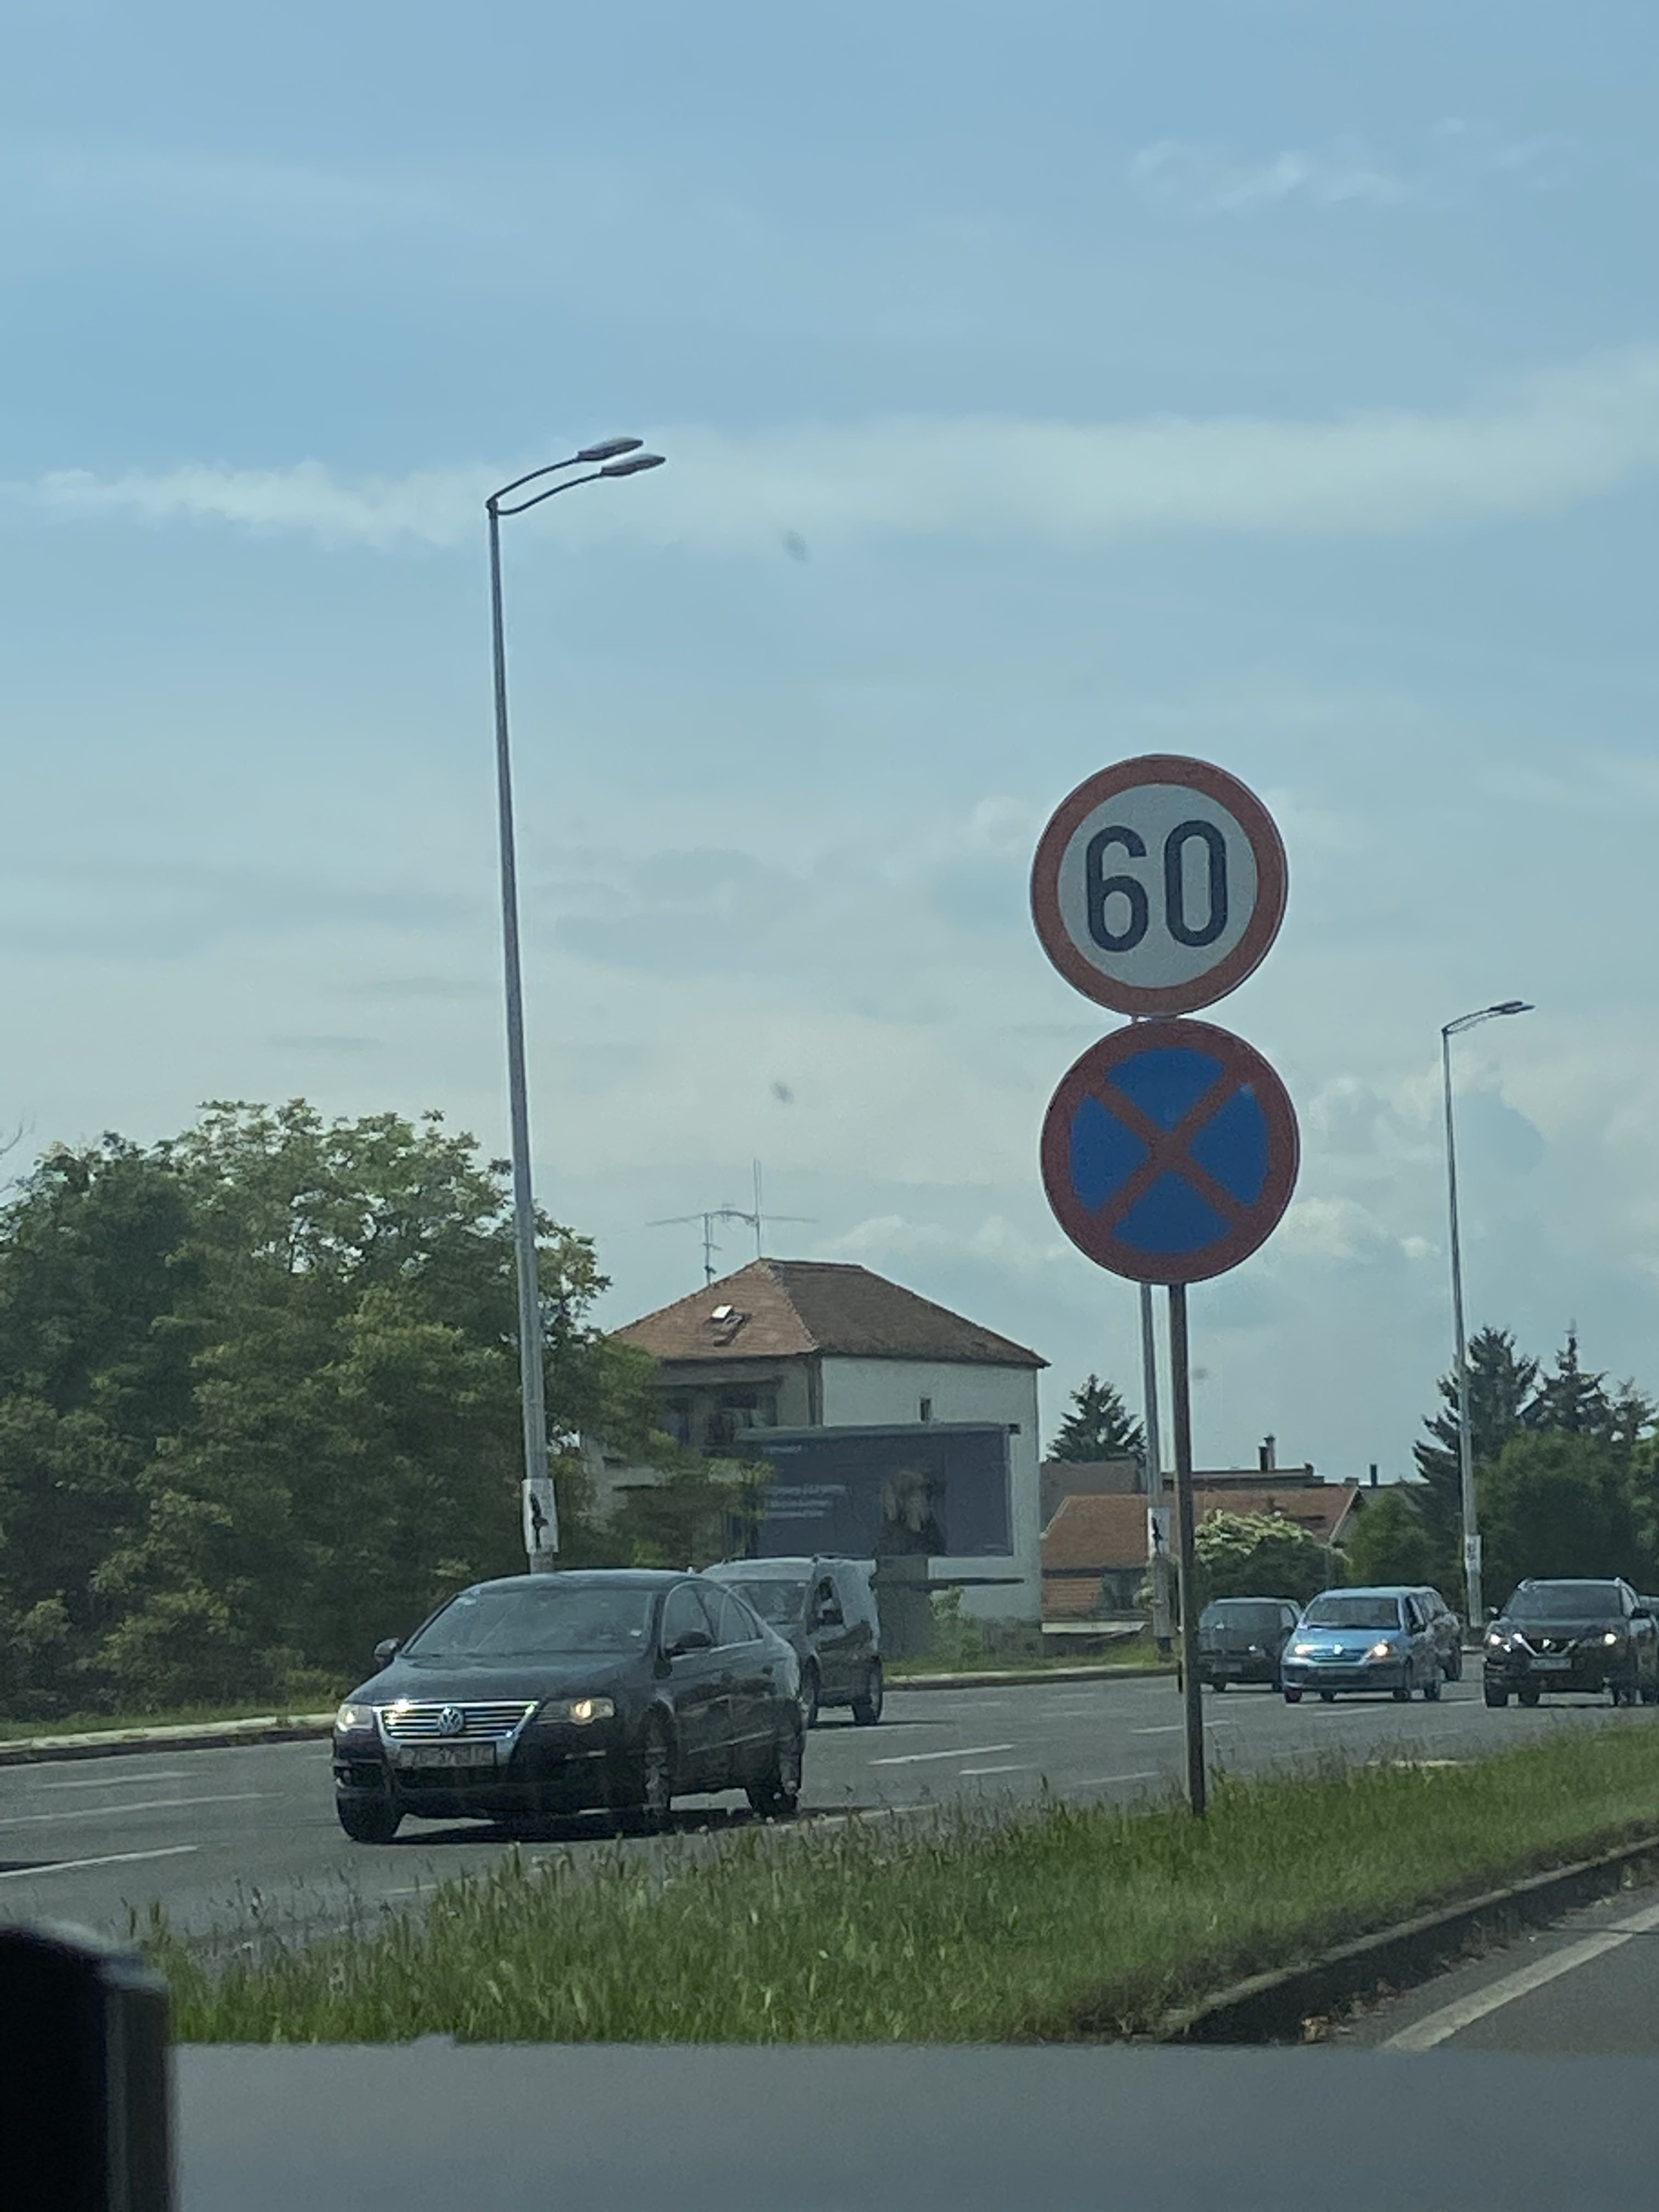Ograničenje brzine 60: (1028, 752, 1290, 1017)
